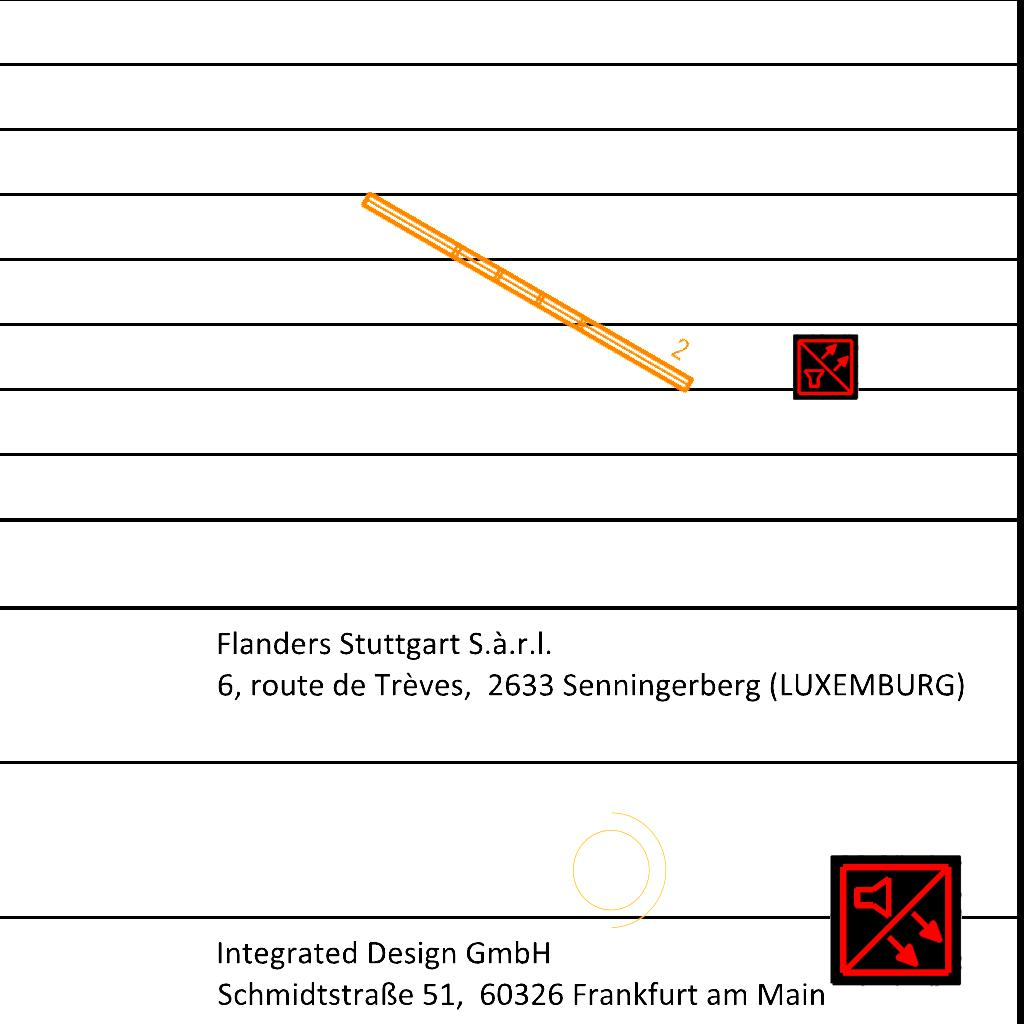Ambulanz_Pendelleuchte_LED: (351, 160, 716, 402)
OKW_Multisensormelder_(Kombination_optischer_Rauch-Kahlenmonoxid_Waerme-Melder): (830, 855, 962, 987), (793, 334, 859, 400)
Scheinwerfer_fuer_Alarmbeleuchtung: (560, 801, 672, 933)
